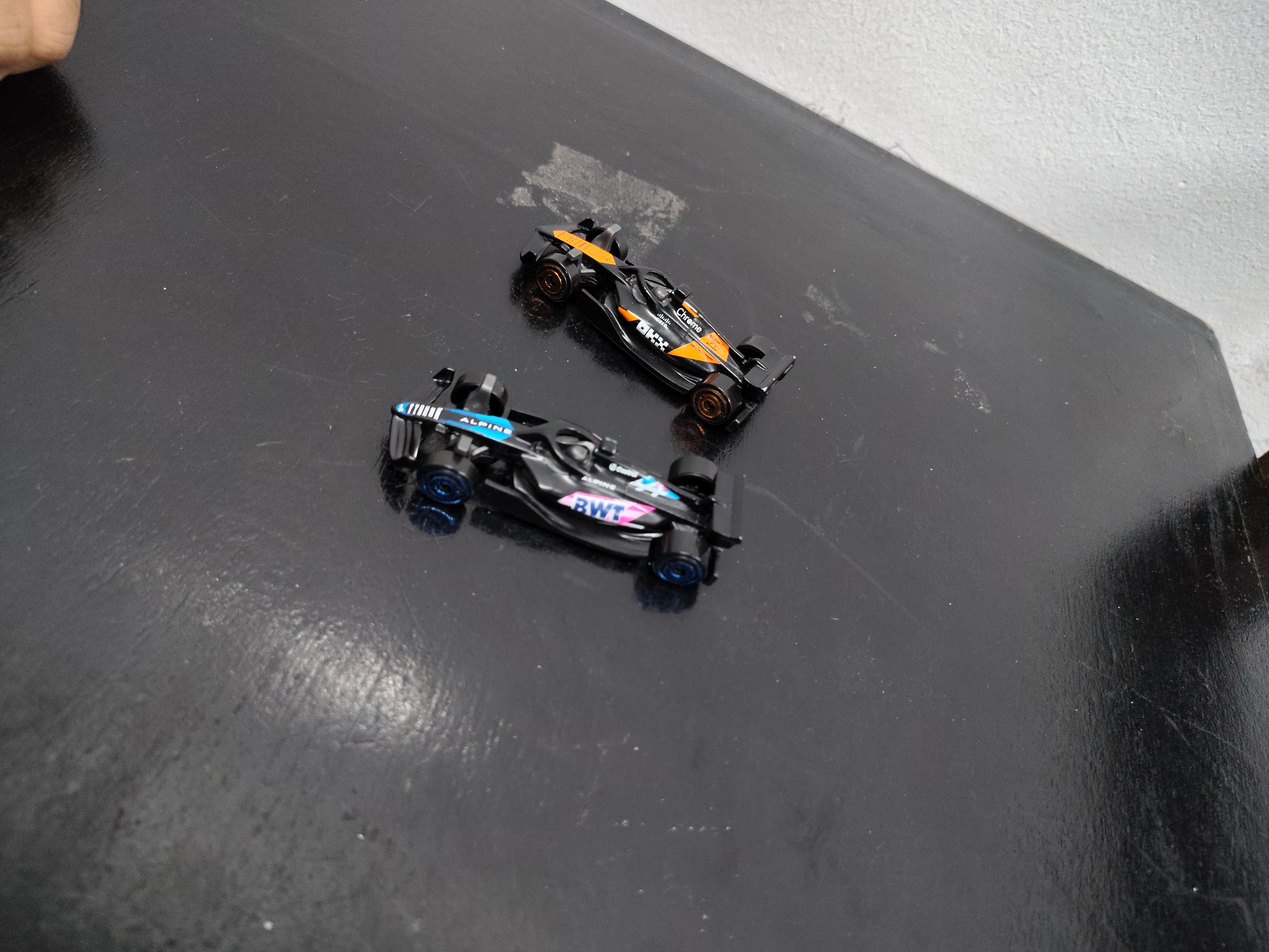Alpine A524: (313, 352, 782, 600)
McLaren MCL40: (485, 189, 815, 429)
